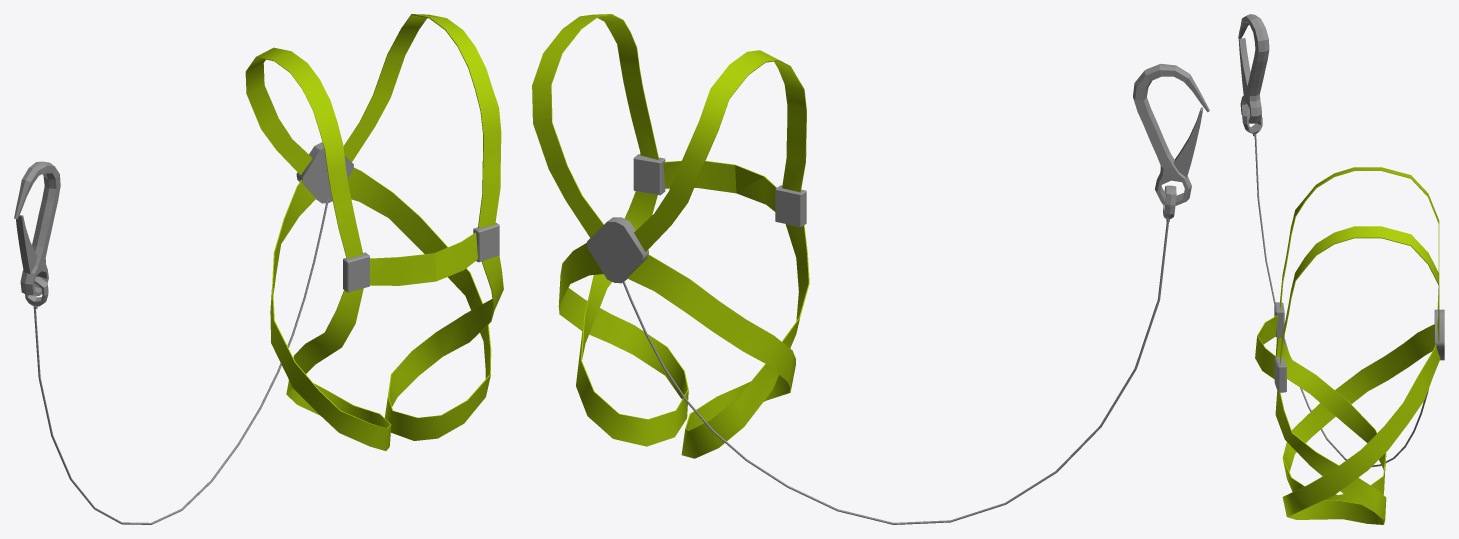
File: harness.FBX
3 views of the same model, side by side, from view 1: azimuth 30°, elevation 25°; view 2: azimuth 150°, elevation 25°; view 3: azimuth 270°, elevation 25° (orthographic). The views are drawn at different scales.
Parts seen in each view (by area): view 1: object 1, Box009, Box006, Box008, Box007; view 2: object 1, Box009, Box006, Box007, Box008; view 3: object 1, Box009, Box006, Box007, Box008.
Boxes of the visible parts, x1,y1,x2,y2 form: object 1: [245, 14, 503, 450]; Box009: [14, 161, 328, 524]; Box006: [296, 142, 353, 203]; Box008: [343, 252, 369, 292]; Box007: [473, 222, 499, 262]; object 1: [532, 14, 809, 458]; Box009: [623, 64, 1209, 524]; Box006: [587, 217, 648, 283]; Box007: [633, 154, 665, 195]; Box008: [775, 185, 806, 226]; object 1: [1255, 167, 1440, 524]; Box009: [1238, 14, 1428, 467]; Box006: [1434, 309, 1444, 360]; Box007: [1274, 357, 1286, 392]; Box008: [1274, 302, 1284, 337].
Size of the model in its own units: 846 by 343 by 666.
